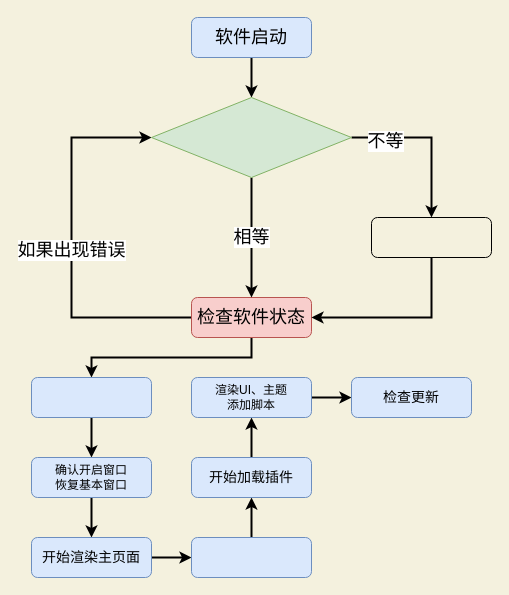
This 509x595 diagram has some shape labels left out. Here are the shapes that lost their labels. From the top down, the box of each, then its label:
(150, 96, 352, 178): 判断插件库版本
(370, 216, 492, 258): 复制插件库
(30, 376, 152, 418): 开始加载配置文件
(190, 536, 312, 578): 开始加载注册表
